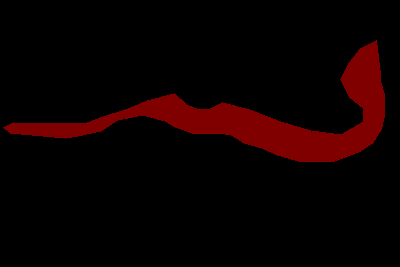fire: (3, 40, 384, 161)
